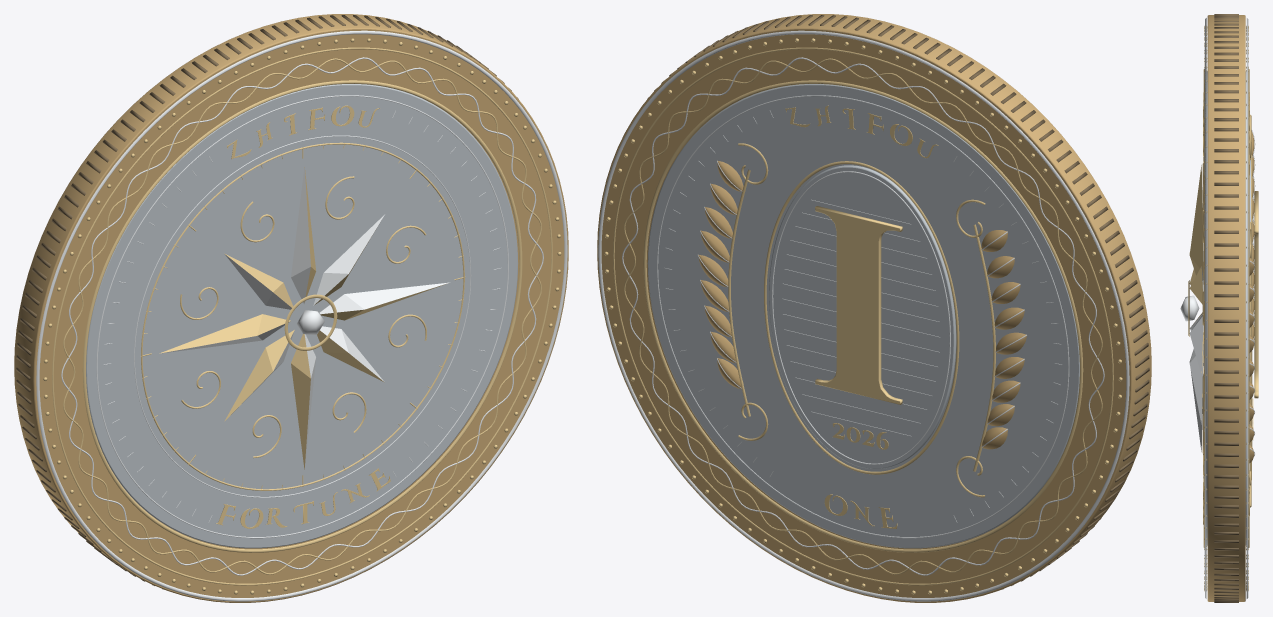
The model's file is zhifou_coin.glb.
3 renders of one model, left to right at view 1: azimuth 30°, elevation 25°; view 2: azimuth 150°, elevation 25°; view 3: azimuth 270°, elevation 25°, orthographic. The views are drawn at different scales.
Parts seen in each view (by area): view 1: Coin_01; view 2: Coin_01; view 3: Coin_01.
Part boxes in pixels (<box>): Coin_01: <box>14,14,568,602</box>; Coin_01: <box>597,14,1151,602</box>; Coin_01: <box>1180,14,1258,602</box>.
Size of the model in its own units: 2.01 by 2.01 by 0.2665.
